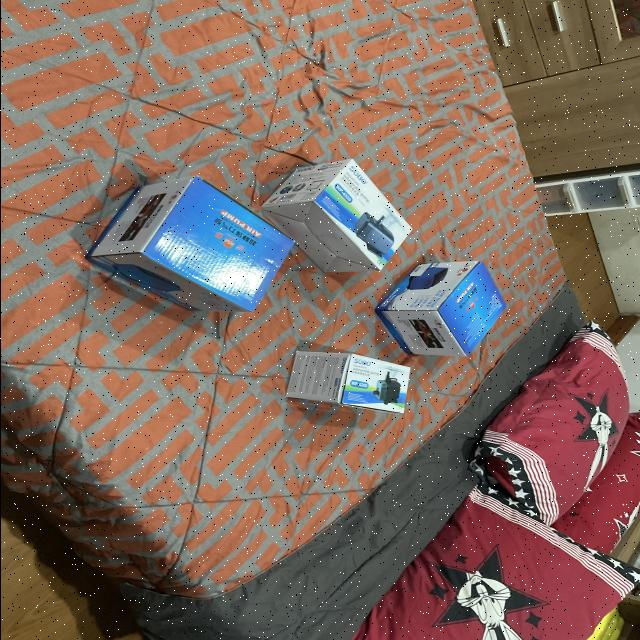SOBO_WP_4200: (260, 152, 412, 284), (273, 341, 417, 422)
YAMANO_LPP_20: (82, 160, 294, 327), (374, 259, 516, 367)
